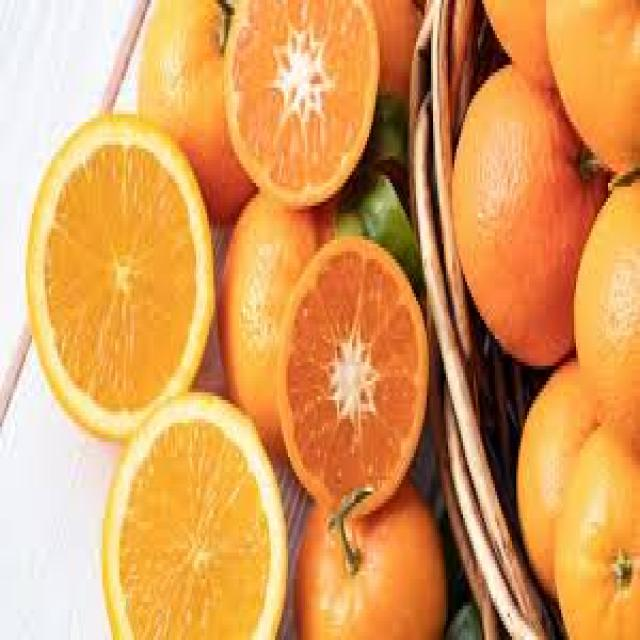orange: (20, 112, 221, 430)
